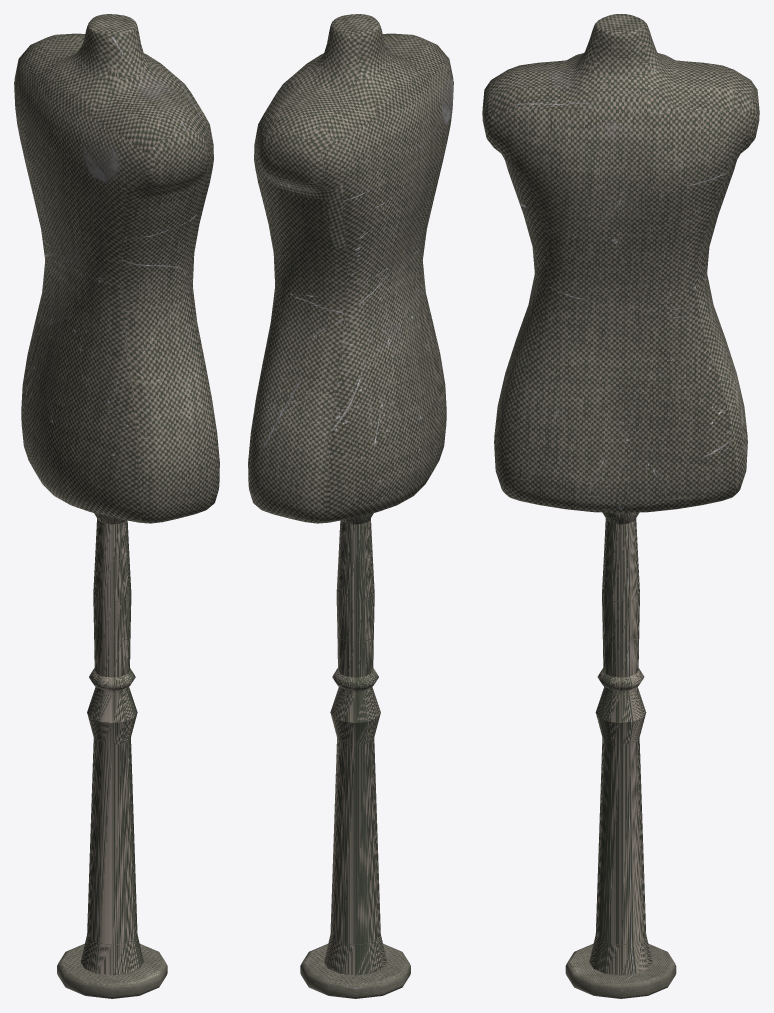
Rendered from Mannequin_buste_001.glb.
3 renders of one model, left to right at view 1: azimuth 30°, elevation 25°; view 2: azimuth 150°, elevation 25°; view 3: azimuth 270°, elevation 25°, orthographic.
Visible parts, largest first — view 1: stand_clean; view 2: stand_clean; view 3: stand_clean.
Boxes of the visible parts, bbox=[...] form: stand_clean: bbox=[14, 14, 219, 998]; stand_clean: bbox=[248, 14, 453, 998]; stand_clean: bbox=[482, 14, 759, 998].
Bounding box in the file's own units: 0.2318 × 1.53 × 0.404.
Materials: 1 (1 with a texture image).
